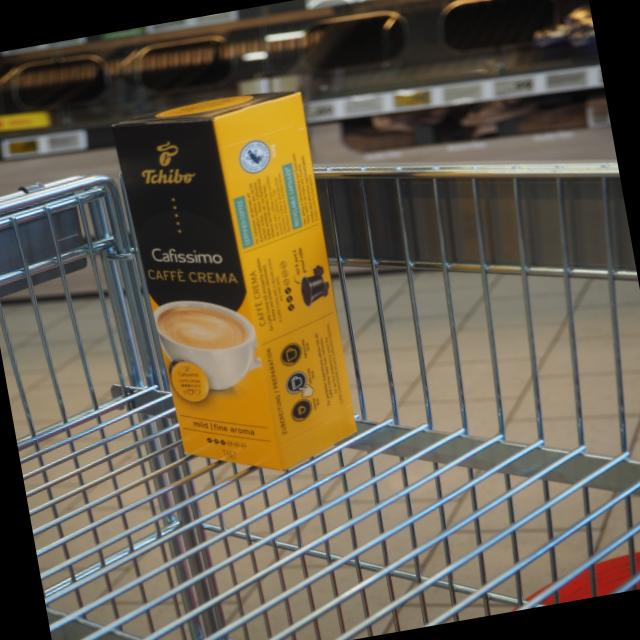Simo CCMild bigpack: (104, 115, 292, 477)
